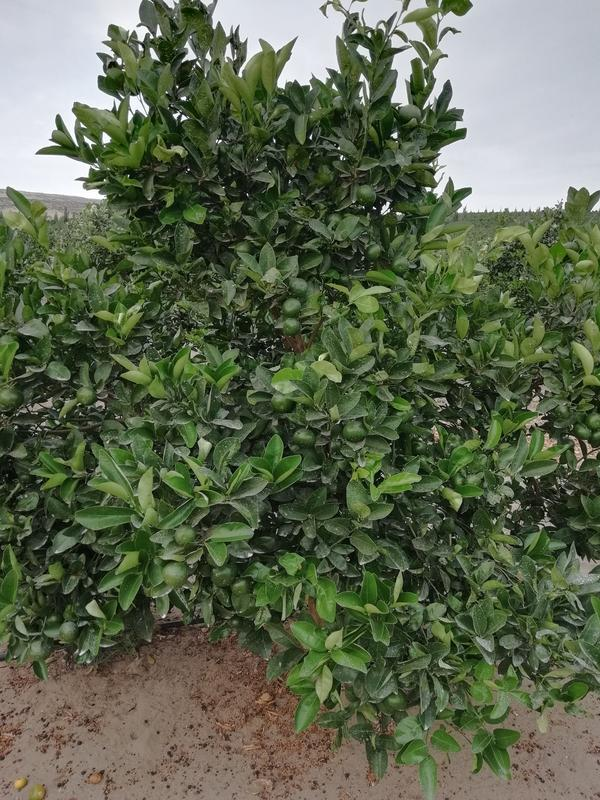mandarina verde: (163, 560, 190, 586), (211, 565, 238, 587), (27, 641, 56, 661), (268, 392, 296, 412), (343, 419, 367, 442), (174, 524, 196, 547), (59, 621, 82, 642), (356, 184, 377, 207), (1, 389, 24, 410), (281, 298, 302, 317), (290, 277, 309, 297), (77, 387, 97, 406), (294, 429, 315, 447), (390, 254, 408, 275), (281, 319, 301, 336), (364, 243, 381, 262), (233, 581, 253, 596), (575, 423, 591, 440), (586, 410, 600, 427)
